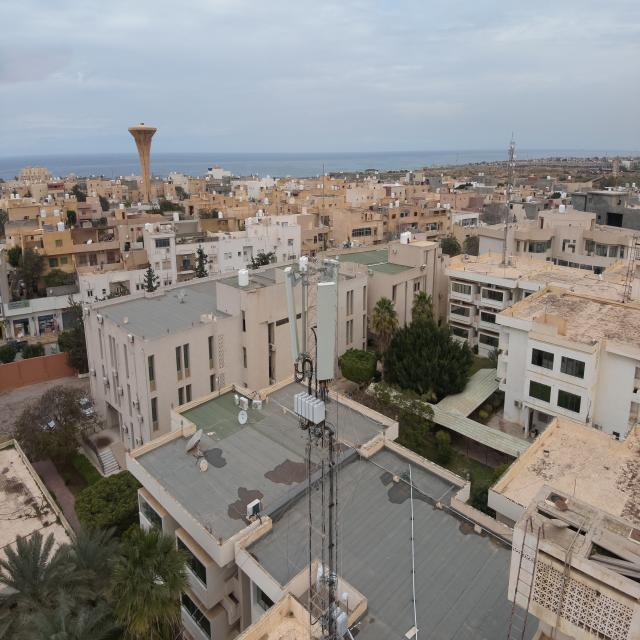antenna: (315, 280, 335, 382), (283, 264, 302, 366), (324, 257, 341, 284)
lighnig-rad: (322, 162, 327, 267)
microware-dish: (315, 563, 340, 591)
power-box: (327, 602, 351, 638)
radio-unit: (294, 389, 328, 426)
